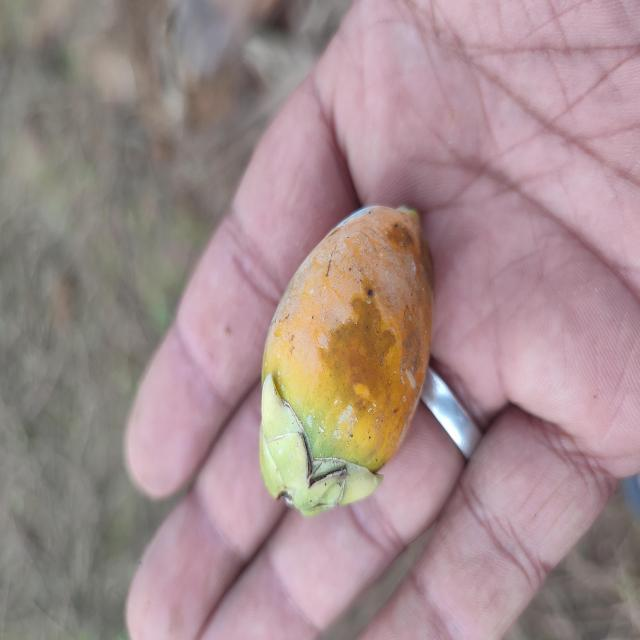good: (258, 205, 435, 520)
